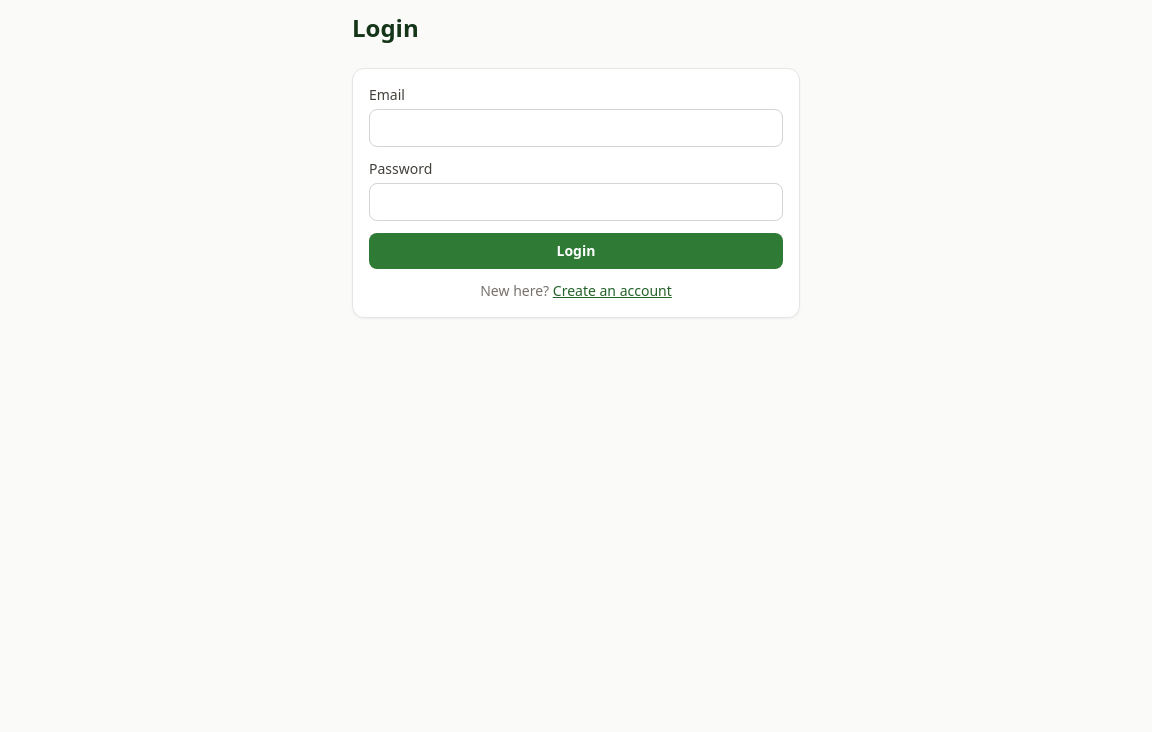
Test case: Login › shows a server error message
Type "a@b.co" into the field labelled "Email". click: (576, 128)
box: [369,109,783,147]
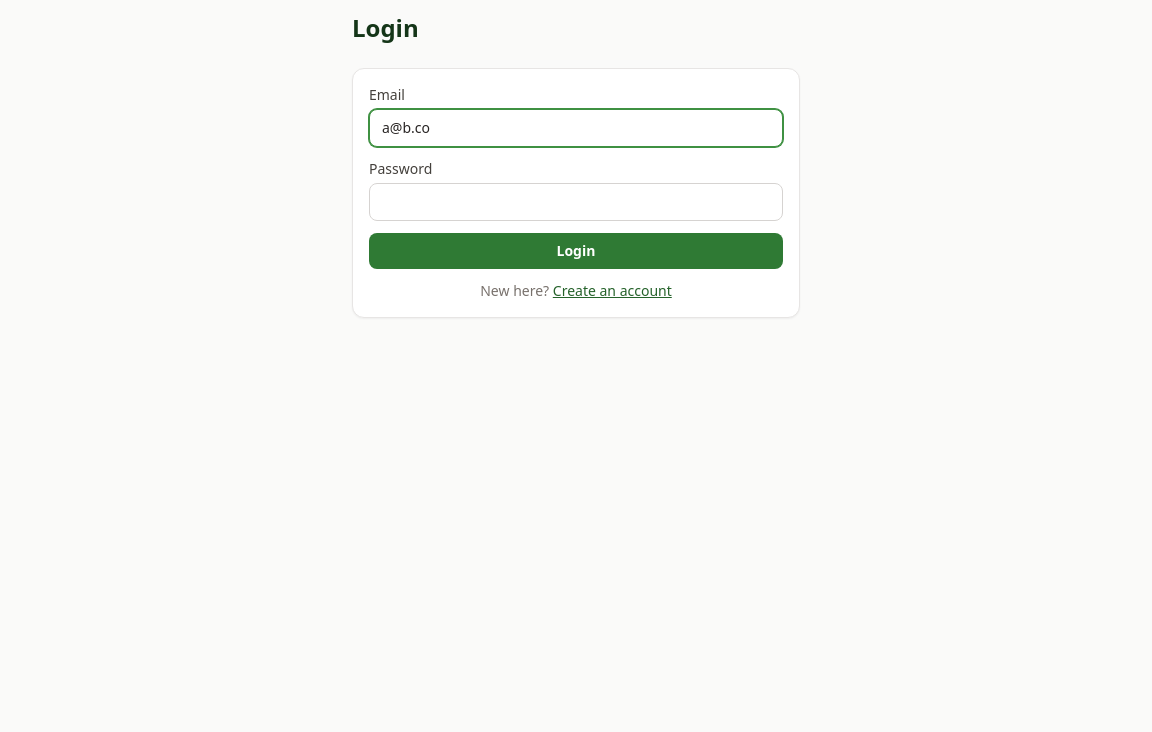
Type "x" into the password field labelled "Password". click: (576, 202)
box: [369,183,783,221]
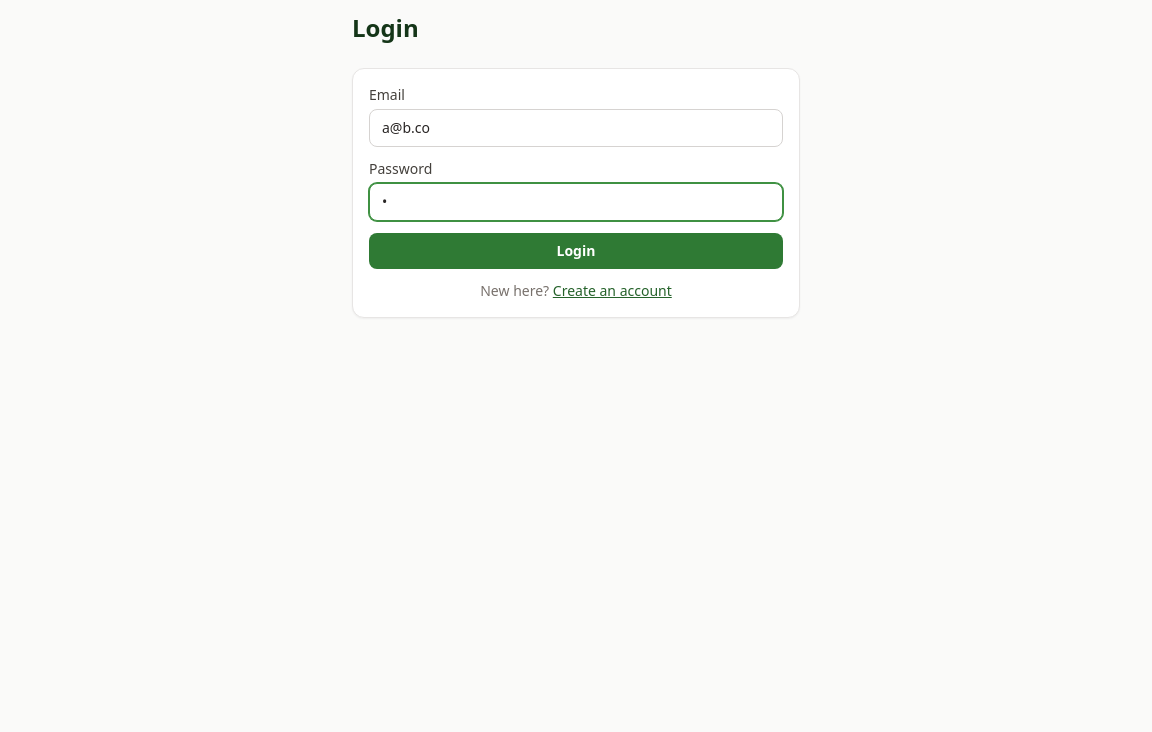
Click the button "Login". click: (576, 251)
box: [369,233,783,269]
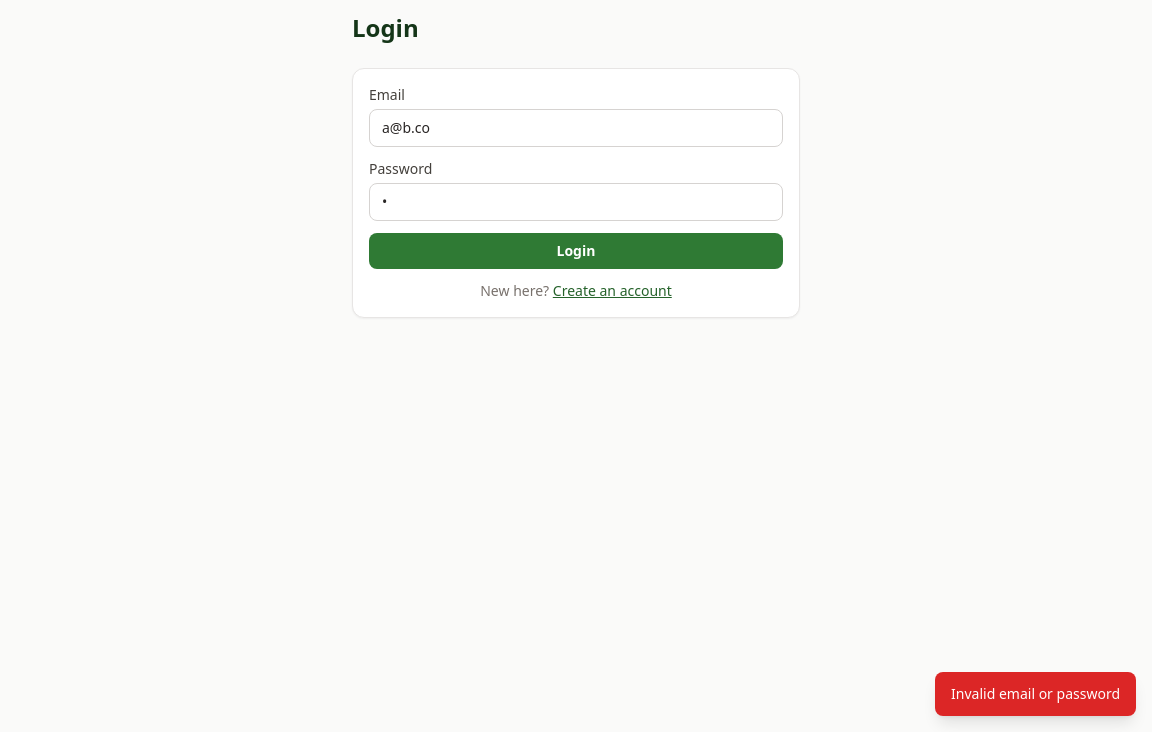
Expected: the text "Invalid email or password" is shown, [935,672,1136,716]
